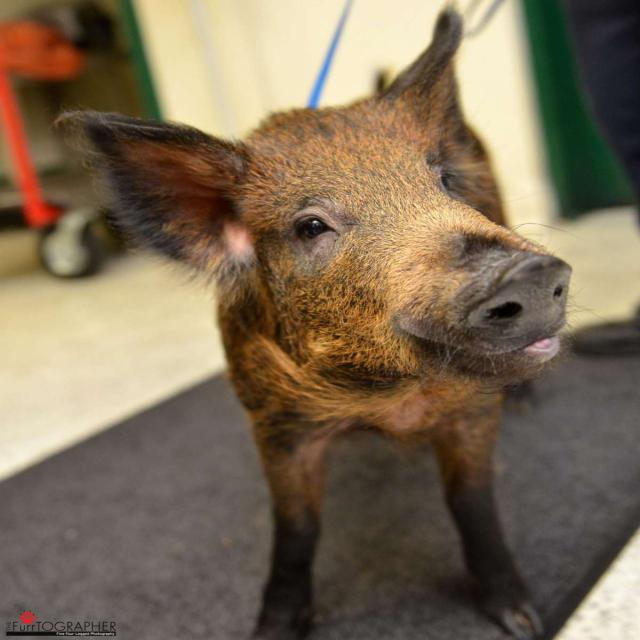Boar: (88, 41, 581, 640)
